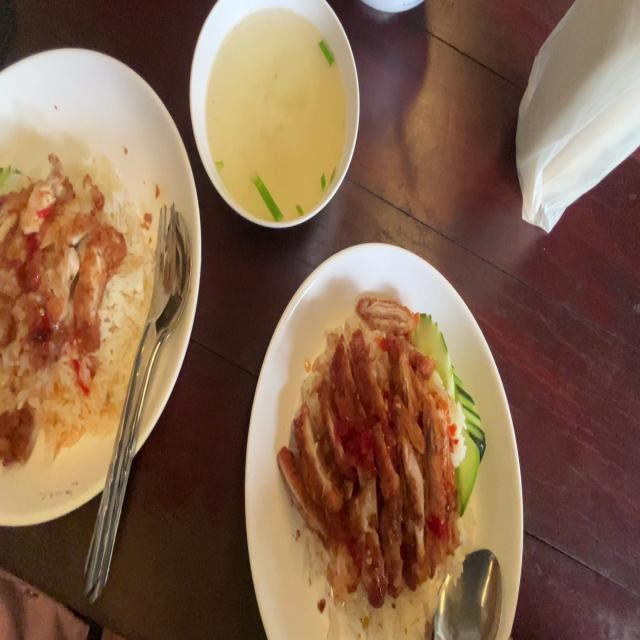chicken_rice: (278, 294, 476, 630), (0, 144, 154, 456)
cucumber: (452, 370, 491, 518), (411, 309, 458, 409), (0, 163, 25, 198)
fried_chicken: (282, 298, 460, 590), (0, 156, 116, 352), (0, 400, 34, 466)
